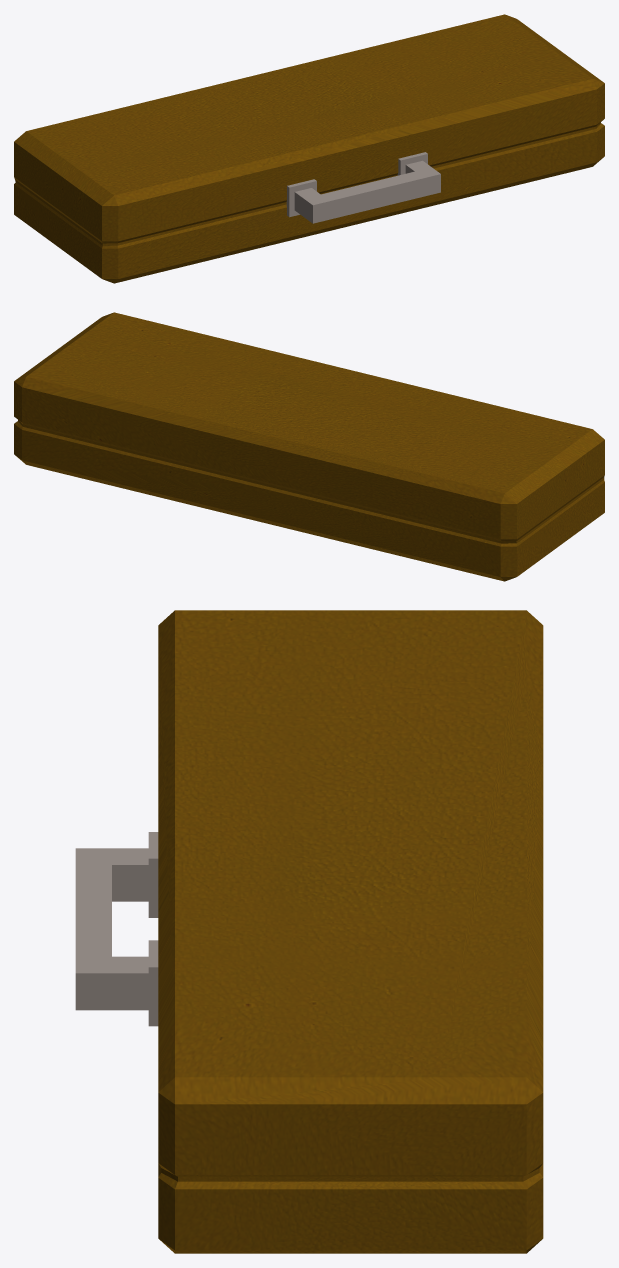
File: ClosedSuitcase.glb
The picture shows the model from 3 angles, top to bottom: view 1: azimuth 30°, elevation 25°; view 2: azimuth 150°, elevation 25°; view 3: azimuth 270°, elevation 25°; orthographic projection. The views are drawn at different scales.
Visible parts, largest first — view 1: suitcaseClosedBody_Mesh, suitcaseClosedHandle_Mesh; view 2: suitcaseClosedBody_Mesh; view 3: suitcaseClosedBody_Mesh, suitcaseClosedHandle_Mesh.
Part boxes in pixels (x1=…): suitcaseClosedBody_Mesh: x1=14, y1=14, x2=604, y2=283; suitcaseClosedHandle_Mesh: x1=286, y1=152, x2=440, y2=223; suitcaseClosedBody_Mesh: x1=14, y1=312, x2=604, y2=581; suitcaseClosedBody_Mesh: x1=158, y1=610, x2=543, y2=1253; suitcaseClosedHandle_Mesh: x1=75, y1=832, x2=158, y2=1026.
Size of the model in its own units: 4.72 by 0.7893 by 1.9.
Materials: 2 (1 with a texture image).
